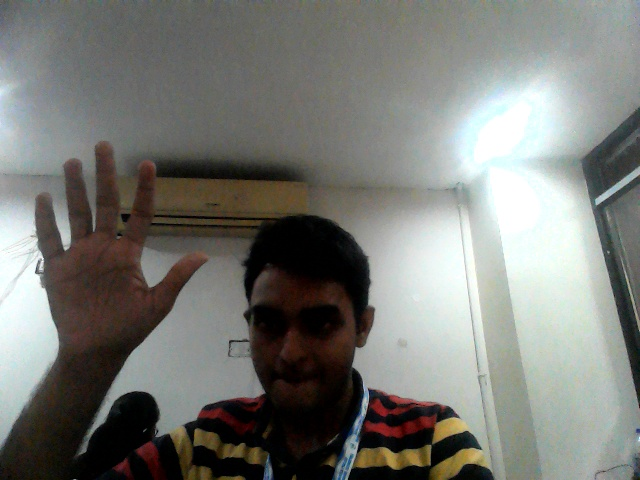palm: (33, 131, 211, 372)
